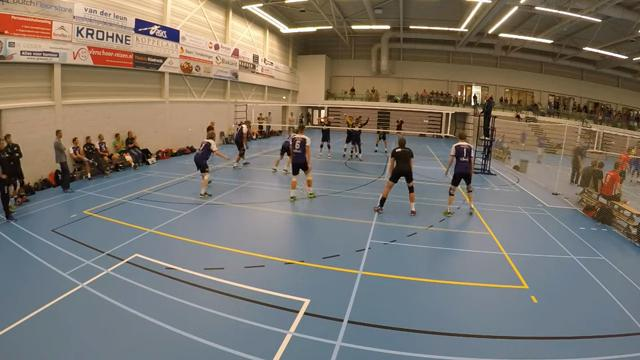Player: (374, 138, 415, 215), (444, 132, 473, 216), (194, 131, 228, 197), (290, 125, 314, 201), (350, 116, 368, 160), (272, 133, 292, 172), (233, 122, 248, 168), (318, 117, 330, 158), (343, 114, 352, 156), (374, 126, 388, 152), (396, 118, 403, 134)
